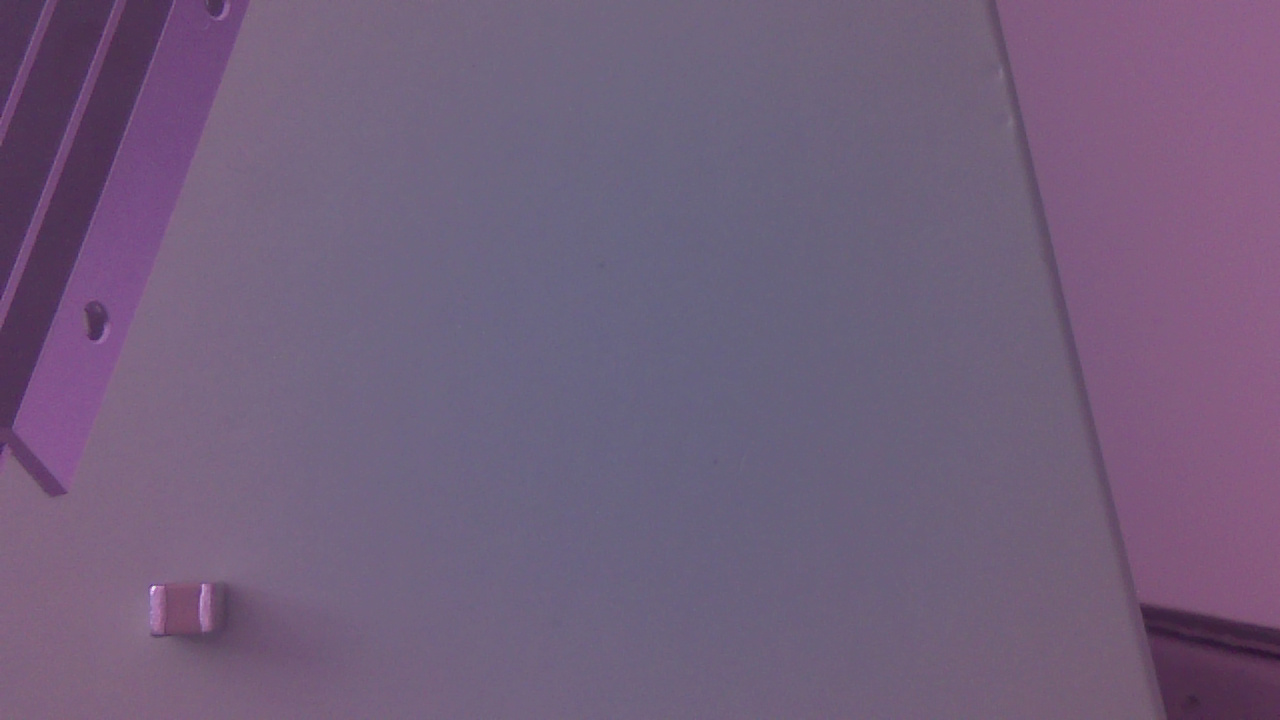Condensator: (150, 580, 228, 644)
